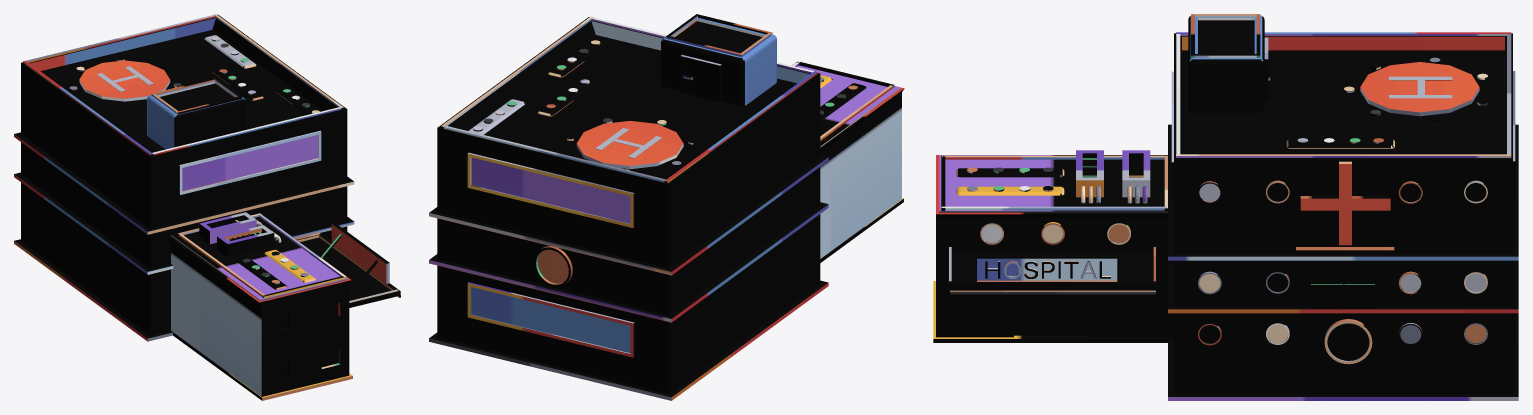
Rendered from Hospital.glb.
The picture shows the model from 3 angles, left to right: view 1: azimuth 30°, elevation 25°; view 2: azimuth 150°, elevation 25°; view 3: azimuth 270°, elevation 25°; orthographic projection. The views are drawn at different scales.
Visible parts, largest first — view 1: Node; view 2: Node; view 3: Node.
Boxes of the visible parts, x1,y1,x2,y2 form: Node: [14, 14, 400, 400]; Node: [429, 14, 904, 400]; Node: [933, 14, 1518, 400].
Size of the model in its own units: 334 by 329 by 625.
Materials: 1 (1 with a texture image).
